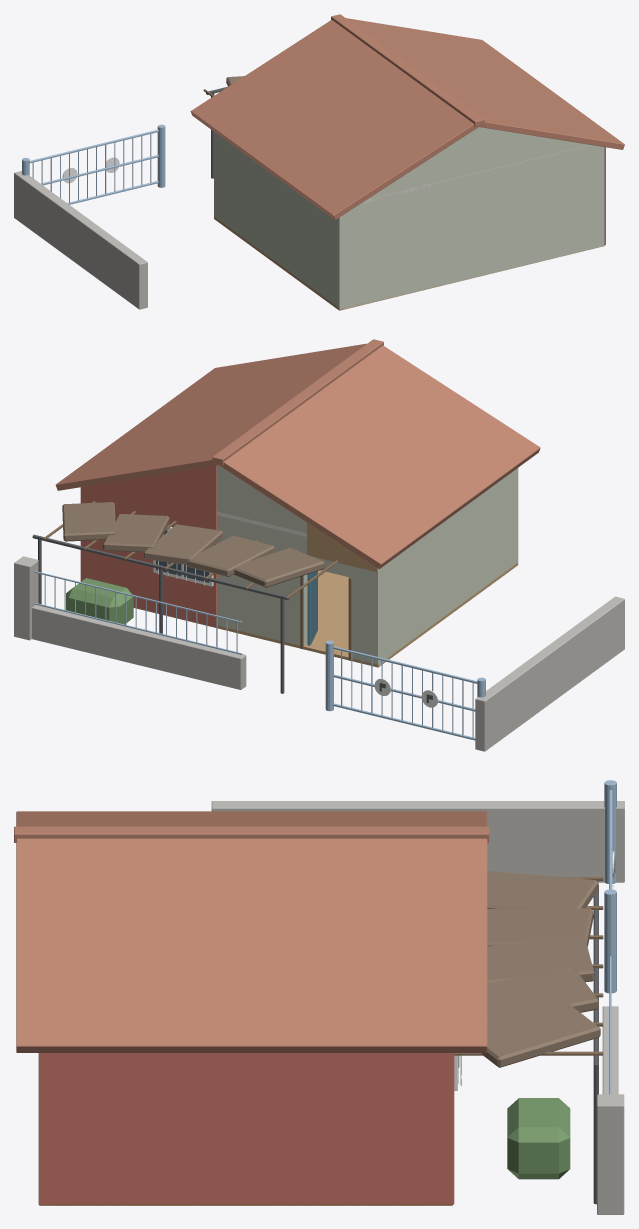
The model's file is Sultanbeyli_Selman48_House.fbx.
The picture shows the model from 3 angles, top to bottom: view 1: azimuth 30°, elevation 25°; view 2: azimuth 150°, elevation 25°; view 3: azimuth 270°, elevation 25°; orthographic projection. The views are drawn at different scales.
Parts seen in each view (by area): view 1: Sultanbeyli_Selman48_House; view 2: Sultanbeyli_Selman48_House; view 3: Sultanbeyli_Selman48_House.
Part boxes in pixels (x1=…): Sultanbeyli_Selman48_House: x1=14, y1=14, x2=624, y2=310; Sultanbeyli_Selman48_House: x1=14, y1=339, x2=624, y2=751; Sultanbeyli_Selman48_House: x1=14, y1=780, x2=624, y2=1214.
Bounding box in the file's own units: 14.13 × 5.21 × 10.64.
